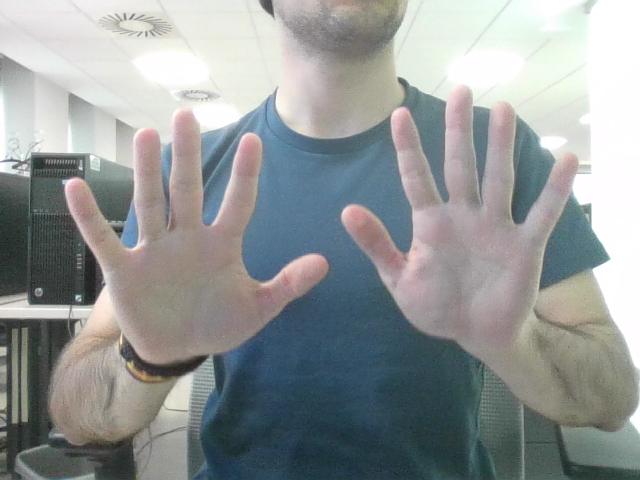Manos Arriba: (101, 110, 543, 321)
